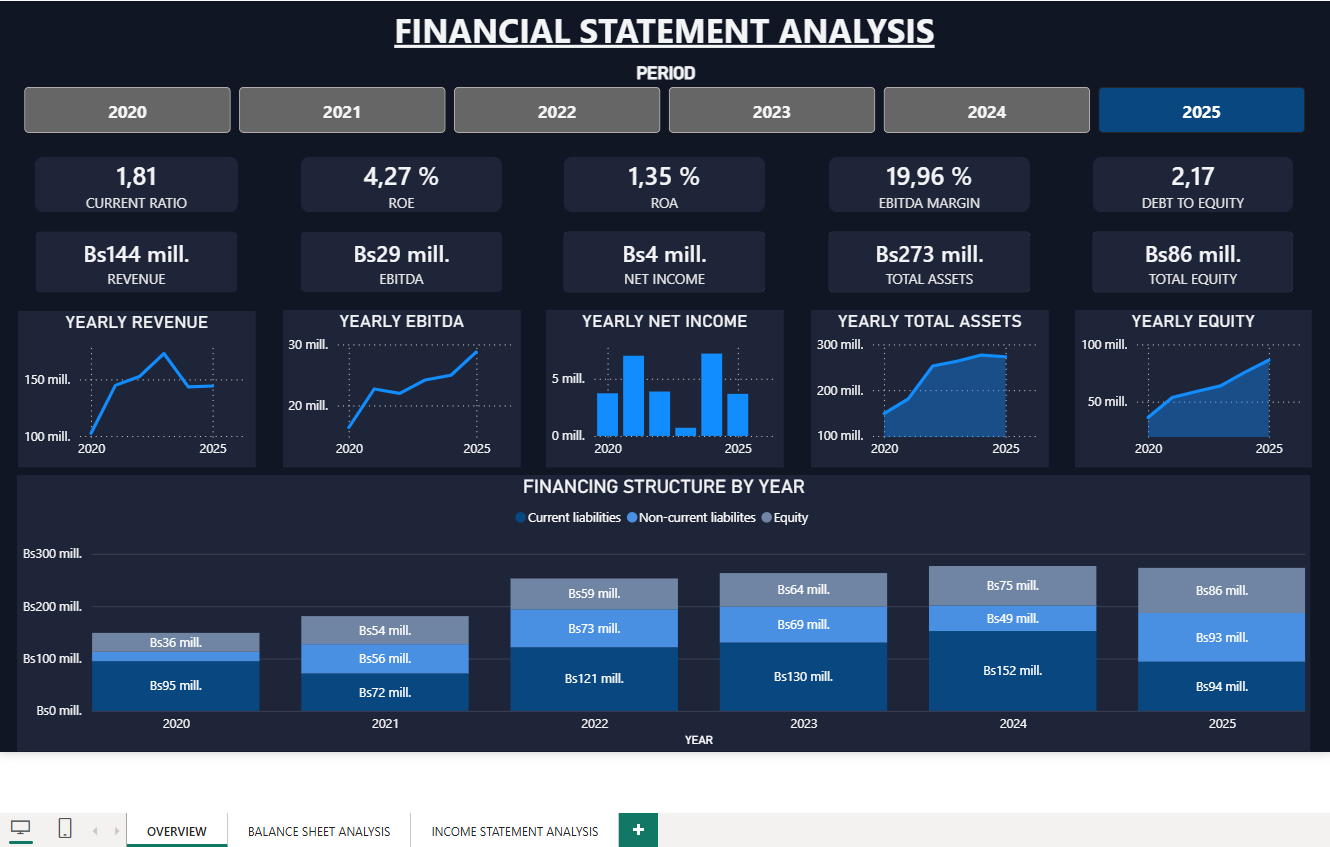

This screenshot's page, from the dashboard's own definition file:
{"tool":"powerbi","page":{"name":"OVERVIEW","canvas":[1280,720],"ordinal":0},"visuals":[{"type":"cardVisual","fields":{"Data":["MEDIDAS.IngresosOP"]},"box":[17.3,132.3,228.2,81.5],"z":0},{"type":"cardVisual","fields":{"Data":["MEDIDAS.EBITDA"]},"box":[272.3,220.5,228.2,81.5],"z":1000},{"type":"cardVisual","fields":{"Data":["MEDIDAS.Resultado Neto"]},"box":[524.5,220.5,228.2,81.5],"z":2000},{"type":"cardVisual","fields":{"Data":["MEDIDAS.Total Activo"]},"box":[778.5,220.5,228.2,81.5],"z":3000},{"type":"cardVisual","fields":{"Data":["DimCategoria.Operating cash flow"]},"box":[1031.7,220.5,226.3,81.5],"z":4000},{"type":"lineChart","title":"YEARLY REVENUE","fields":{"Category":["DimFecha.Año"],"Y":["MEDIDAS.IngresosOP"]},"box":[17.3,310.7,227.9,149.9],"z":5000},{"type":"lineChart","title":"YEARLY EBITDA","fields":{"Category":["DimFecha.Año"],"Y":["MEDIDAS.EBITDA"]},"box":[272.3,310.7,227.9,150.7],"z":6000},{"type":"clusteredColumnChart","title":"YEARLY NET INCOME","fields":{"Category":["DimFecha.Año"],"Y":["MEDIDAS.Resultado Neto"]},"box":[524.5,310.7,227.9,150.7],"z":7000},{"type":"areaChart","title":"YEARLY TOTAL ASSETS","fields":{"Category":["DimFecha.Año"],"Y":["MEDIDAS.Total Activo"]},"box":[778.5,309.7,227.9,150.7],"z":8000},{"type":"clusteredColumnChart","title":"YEARLY OCF","fields":{"Category":["DimFecha.Año"],"Y":["DimCategoria.Operating cash flow"]},"box":[1031.7,310.7,227,150.7],"z":9000},{"type":"columnChart","title":"FINANCING STRUCTURE BY YEAR","fields":{"Category":["DimFecha.Año"],"Y":["MEDIDAS.Current liabilities","MEDIDAS.Non-current liabilites","MEDIDAS.Equity"]},"box":[17.3,467.9,1240.7,252.2],"z":10000},{"type":"textbox","box":[0,0,532,58.5],"z":11000},{"type":"cardVisual","fields":{"Data":["MEDIDAS.Razón corriente"]},"box":[778.5,132.3,228.2,81.5],"z":12000},{"type":"cardVisual","fields":{"Data":["MEDIDAS.ROE"]},"box":[17.3,220.5,228.2,81.5],"z":13000},{"type":"cardVisual","fields":{"Data":["MEDIDAS.ROA"]},"box":[524.5,132.3,228.2,81.5],"z":14000},{"type":"cardVisual","fields":{"Data":["MEDIDAS.Margen EBITDA"]},"box":[272.3,132.3,228.2,81.5],"z":15000},{"type":"cardVisual","fields":{"Data":["MEDIDAS.Apalancamiento"]},"box":[1031.7,132.3,226.3,81.5],"z":16000},{"type":"advancedSlicerVisual","title":"PERIOD","fields":{"Values":["DimFecha.Año"]},"box":[0,58.8,1280,73.5],"z":17000},{"type":"pageNavigator","box":[711.4,4.8,560.9,49.9],"z":18000}]}

Visuals, with their boxes on the page's 1280x720 design canvas (x1, y1, x2, y2). These are canvas units, not pixel positions in the 1330x847 screenshot, which may show the page scaled, cropped or inside an application window:
cardVisual - MEDIDAS.IngresosOP: 17/132/246/214
cardVisual - MEDIDAS.EBITDA: 272/220/500/302
cardVisual - MEDIDAS.Resultado Neto: 524/220/753/302
cardVisual - MEDIDAS.Total Activo: 778/220/1007/302
cardVisual - DimCategoria.Operating cash flow: 1032/220/1258/302
"YEARLY REVENUE" lineChart: 17/311/245/461
"YEARLY EBITDA" lineChart: 272/311/500/461
"YEARLY NET INCOME" clusteredColumnChart: 524/311/752/461
"YEARLY TOTAL ASSETS" areaChart: 778/310/1006/460
"YEARLY OCF" clusteredColumnChart: 1032/311/1259/461
"FINANCING STRUCTURE BY YEAR" columnChart: 17/468/1258/720
textbox: 0/0/532/58
cardVisual - MEDIDAS.Razón corriente: 778/132/1007/214
cardVisual - MEDIDAS.ROE: 17/220/246/302
cardVisual - MEDIDAS.ROA: 524/132/753/214
cardVisual - MEDIDAS.Margen EBITDA: 272/132/500/214
cardVisual - MEDIDAS.Apalancamiento: 1032/132/1258/214
"PERIOD" advancedSlicerVisual: 0/59/1280/132
pageNavigator: 711/5/1272/55
